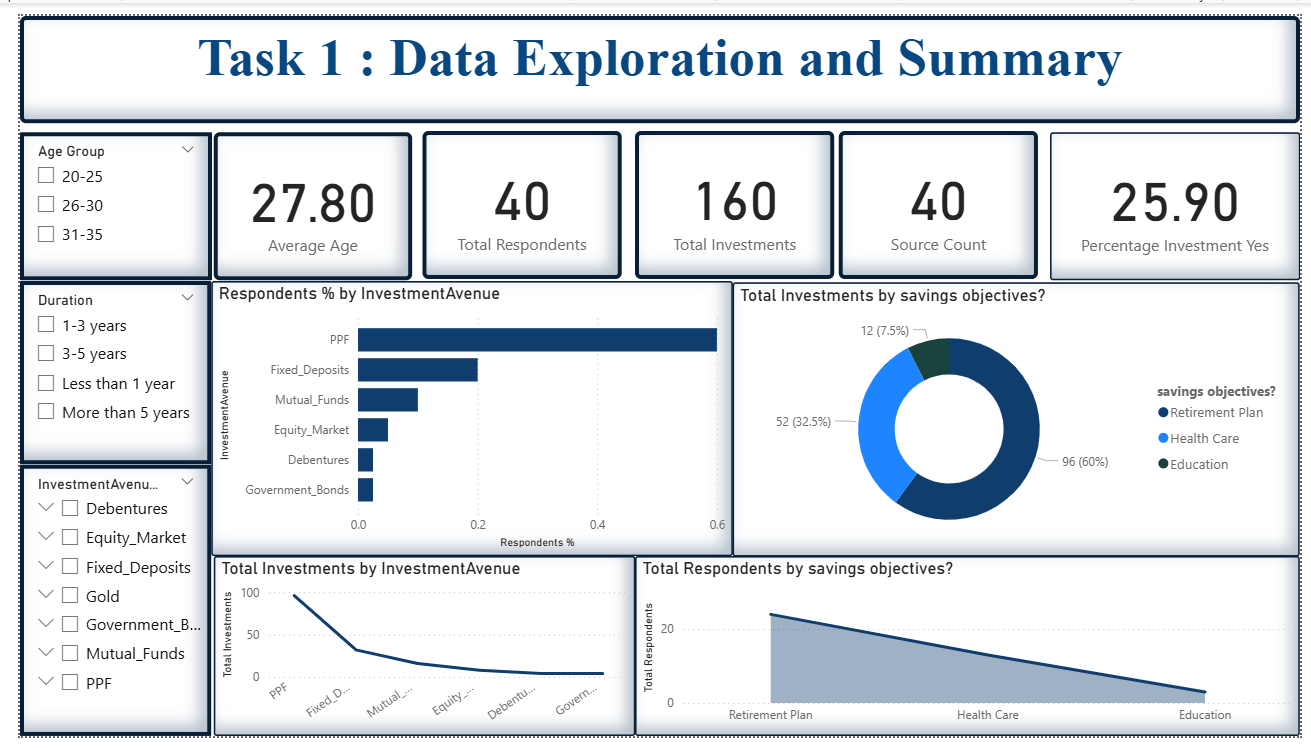

This screenshot's page, from the dashboard's own definition file:
{"tool":"powerbi","page":{"name":"Task 1","canvas":[1280,720],"ordinal":0},"visuals":[{"type":"card","fields":{"Values":["Cognifyz_Dataset.Total Respondents"]},"box":[402.9,115.1,199,148],"z":0},{"type":"card","fields":{"Values":["Cognifyz_Dataset.Source Count"]},"box":[819.4,115.1,199,148],"z":1000},{"type":"card","fields":{"Values":["Cognifyz_Dataset.Total Investments"]},"box":[614.5,115.1,199,148],"z":2000},{"type":"card","fields":{"Values":["Cognifyz_Dataset.Average Age"]},"box":[194,116,198,148],"z":3000},{"type":"card","fields":{"Values":["Cognifyz_Dataset.Percentage Investment Yes"]},"box":[1030,116,250,148],"z":4000},{"type":"slicer","fields":{"Values":["Cognifyz_Dataset.Age Group"]},"box":[0,116.7,191.7,148.3],"z":5000},{"type":"slicer","fields":{"Values":["Cognifyz_Dataset.Duration"]},"box":[0,265.4,191.5,183.1],"z":7000},{"type":"slicer","fields":{"Values":["Cognifyz_Dataset.InvestmentAvenue","Cognifyz_Dataset.Source"]},"box":[0,448.8,191.2,271.2],"z":8000},{"type":"donutChart","fields":{"Category":["Cognifyz_Dataset.savings objectives?"],"Y":["Cognifyz_Dataset.Total Investments"]},"box":[712.9,265.7,567.1,274.3],"z":9000},{"type":"textbox","box":[0,0,1280,107.5],"z":10000},{"type":"clusteredBarChart","fields":{"Category":["Cognifyz_Dataset.InvestmentAvenue"],"Y":["Cognifyz_Dataset.Respondents %"]},"box":[191.7,265,521.7,275],"z":11000},{"type":"lineChart","fields":{"Category":["Cognifyz_Dataset.InvestmentAvenue"],"Y":["Cognifyz_Dataset.Total Investments"]},"box":[193.3,540,421.7,180],"z":12000},{"type":"areaChart","fields":{"Category":["Cognifyz_Dataset.savings objectives?"],"Y":["Cognifyz_Dataset.Total Respondents"]},"box":[615,540,665,180],"z":13000}]}

Visuals, with their boxes in screenshot pixels (x1, y1, x2, y2), scaled from the page's 1280x720 canvas onto the 1311x748 screenshot:
card - Cognifyz_Dataset.Total Respondents: [x1=413, y1=120, x2=616, y2=273]
card - Cognifyz_Dataset.Source Count: [x1=839, y1=120, x2=1043, y2=273]
card - Cognifyz_Dataset.Total Investments: [x1=629, y1=120, x2=833, y2=273]
card - Cognifyz_Dataset.Average Age: [x1=199, y1=121, x2=401, y2=274]
card - Cognifyz_Dataset.Percentage Investment Yes: [x1=1055, y1=121, x2=1310, y2=274]
slicer - Cognifyz_Dataset.Age Group: [x1=0, y1=121, x2=196, y2=275]
slicer - Cognifyz_Dataset.Duration: [x1=0, y1=276, x2=196, y2=466]
slicer - Cognifyz_Dataset.InvestmentAvenue x Cognifyz_Dataset.Source: [x1=0, y1=466, x2=196, y2=747]
donutChart - Cognifyz_Dataset.savings objectives? x Cognifyz_Dataset.Total Investments: [x1=730, y1=276, x2=1310, y2=561]
textbox: [x1=0, y1=0, x2=1310, y2=112]
clusteredBarChart - Cognifyz_Dataset.InvestmentAvenue x Cognifyz_Dataset.Respondents %: [x1=196, y1=275, x2=731, y2=561]
lineChart - Cognifyz_Dataset.InvestmentAvenue x Cognifyz_Dataset.Total Investments: [x1=198, y1=561, x2=630, y2=747]
areaChart - Cognifyz_Dataset.savings objectives? x Cognifyz_Dataset.Total Respondents: [x1=630, y1=561, x2=1310, y2=747]
